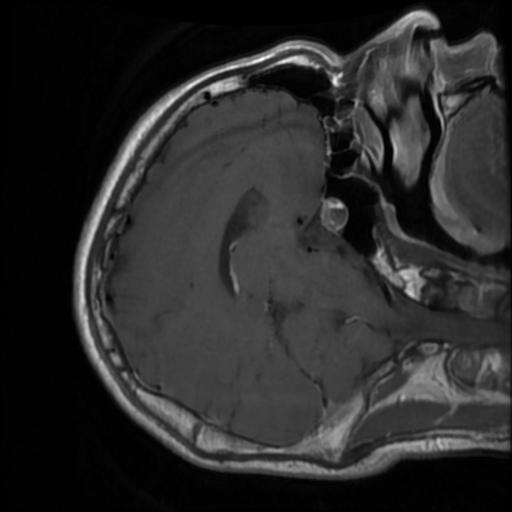pituitary tumour: (321, 196, 348, 232)
